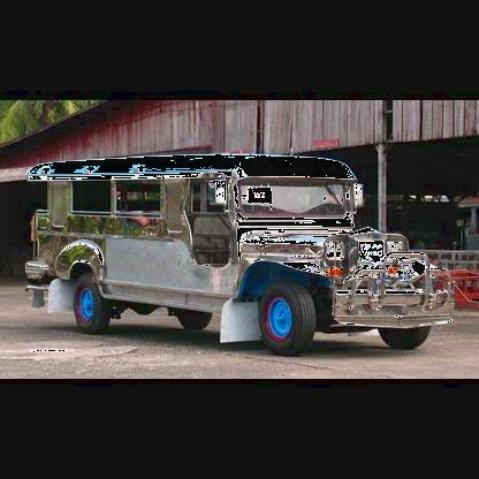jeepney: (24, 149, 462, 354)
